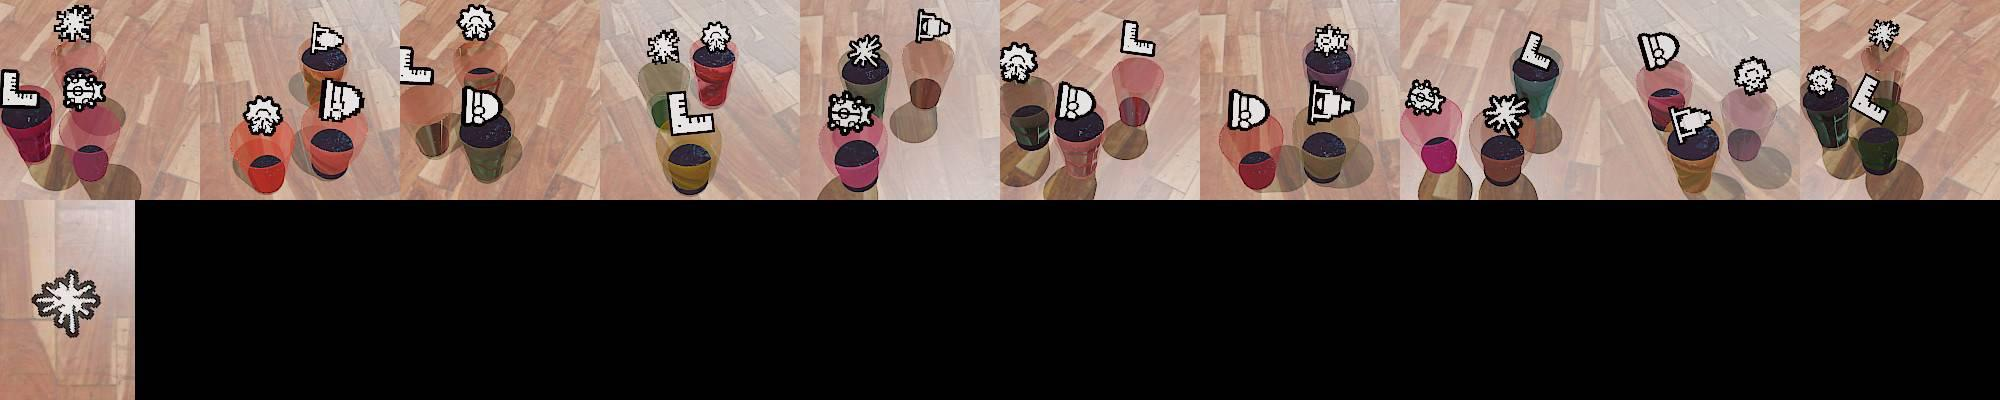icon: (31, 269, 102, 338), (663, 88, 714, 136), (825, 88, 876, 135), (1482, 90, 1531, 138), (318, 78, 366, 124), (1849, 71, 1889, 125), (1307, 82, 1355, 124), (61, 69, 107, 111), (1668, 104, 1716, 145), (241, 93, 284, 136), (1636, 29, 1680, 71), (999, 41, 1038, 85), (462, 84, 501, 129), (1228, 89, 1269, 131), (52, 4, 94, 45), (1056, 82, 1097, 122), (1404, 76, 1446, 116), (1517, 31, 1556, 73), (398, 43, 436, 87), (0, 68, 40, 108), (455, 3, 495, 42), (1119, 18, 1156, 57), (1732, 57, 1772, 94), (844, 33, 885, 69), (645, 28, 681, 66), (1312, 23, 1352, 57), (916, 8, 952, 43), (310, 22, 346, 55), (1804, 65, 1838, 97), (700, 20, 732, 54), (1867, 19, 1901, 51)
